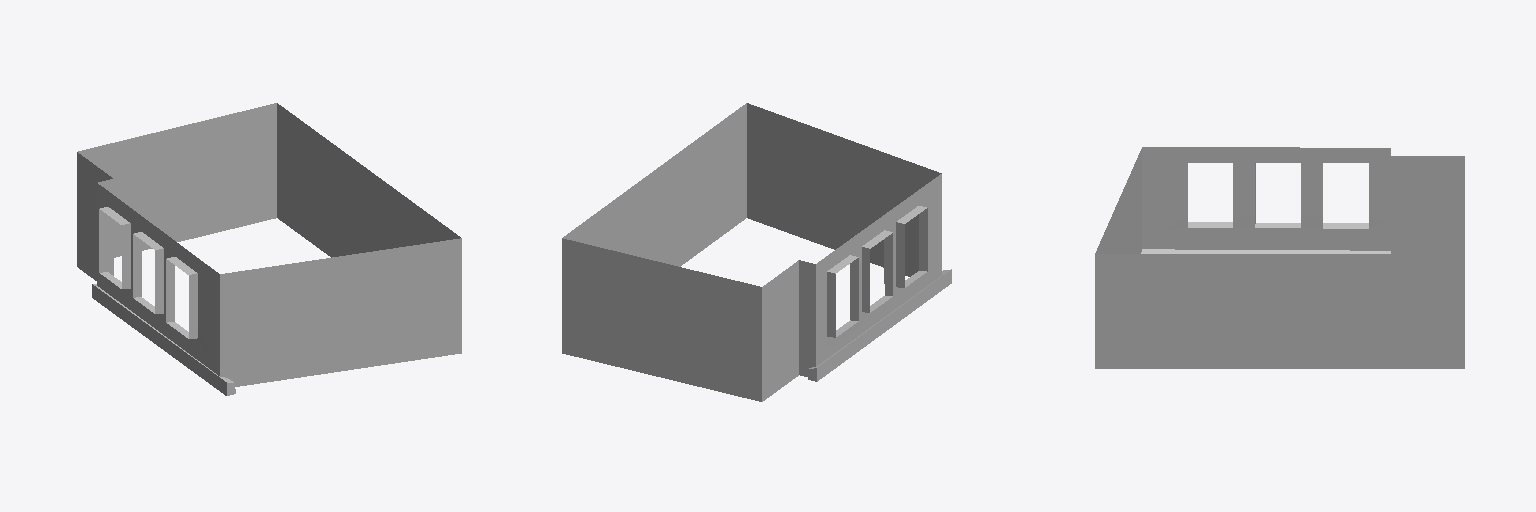
File: room.obj
3 renders of one model, left to right at view 1: azimuth 30°, elevation 25°; view 2: azimuth 150°, elevation 25°; view 3: azimuth 270°, elevation 25°, orthographic.
Parts seen in each view (by area): view 1: walls_Plane.009, Cube.026_Cube.031; view 2: walls_Plane.009, Cube.026_Cube.031; view 3: walls_Plane.009, Cube.026_Cube.031.
Part boxes in pixels (bbox=[...]): walls_Plane.009: bbox=[77, 103, 461, 386]; Cube.026_Cube.031: bbox=[92, 284, 235, 395]; walls_Plane.009: bbox=[562, 103, 941, 401]; Cube.026_Cube.031: bbox=[808, 269, 951, 381]; walls_Plane.009: bbox=[1095, 147, 1464, 368]; Cube.026_Cube.031: bbox=[1141, 249, 1390, 253].
Bounding box in the file's own units: 16.44 × 7.99 × 23.17.